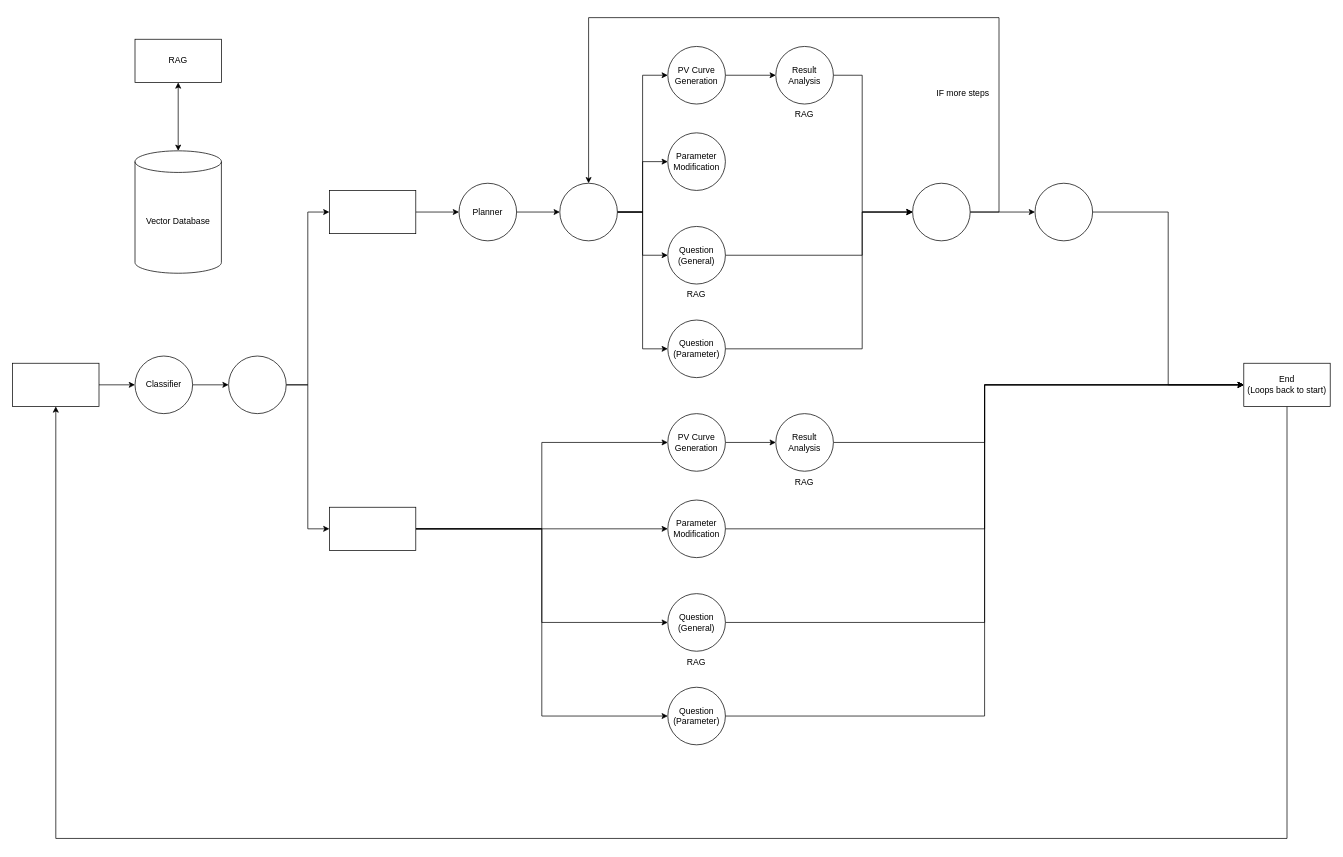
Image size: 1343x857. Some labels were removed from this diagram. The centre of each missing label's shape, as x and y in pixels:
Advance Step: the point at 941,212
Multi-step: the point at 372,212
Router: the point at 257,384
Simple query: the point at 372,528
Start: the point at 55,384
Step Controller: the point at 588,212
Summary: the point at 1063,212
